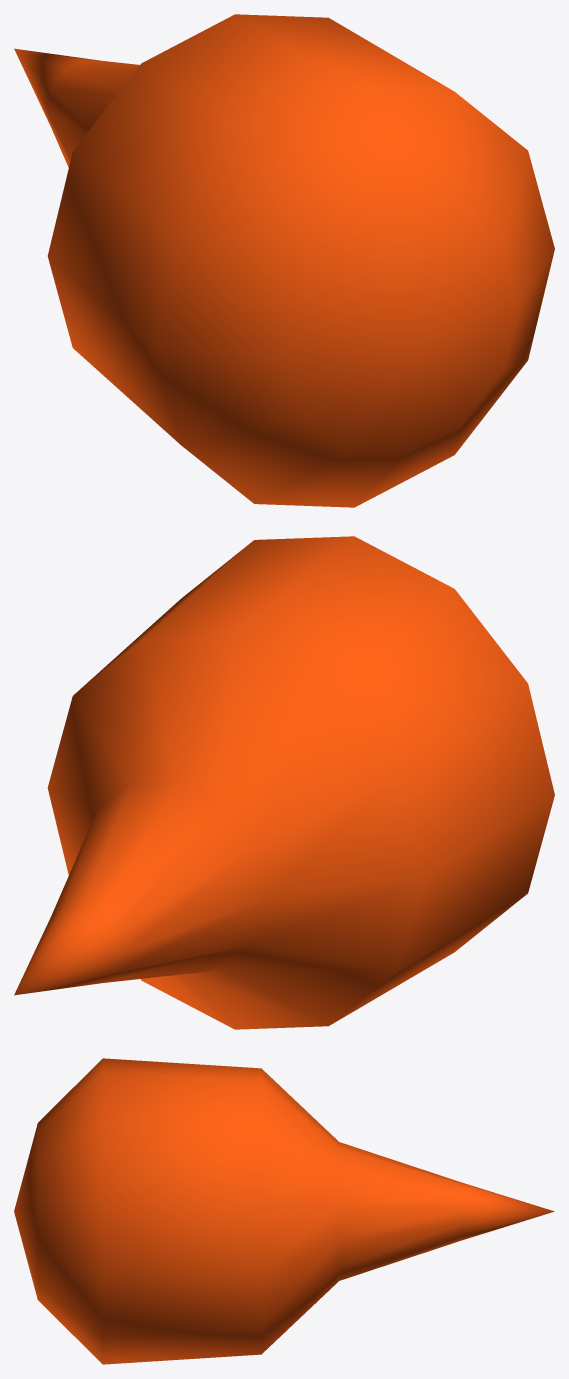
The model's file is Mapa02_FireBall.FBX.
The picture shows the model from 3 angles, top to bottom: view 1: azimuth 30°, elevation 25°; view 2: azimuth 150°, elevation 25°; view 3: azimuth 270°, elevation 25°; orthographic projection. The views are drawn at different scales.
Parts seen in each view (by area): view 1: Fireball_Mapa02; view 2: Fireball_Mapa02; view 3: Fireball_Mapa02.
Part boxes in pixels (x1=…): Fireball_Mapa02: x1=14, y1=14, x2=554, y2=507; Fireball_Mapa02: x1=14, y1=536, x2=554, y2=1029; Fireball_Mapa02: x1=14, y1=1058, x2=554, y2=1364.
Size of the model in its own units: 20.9 by 20.9 by 36.78.
